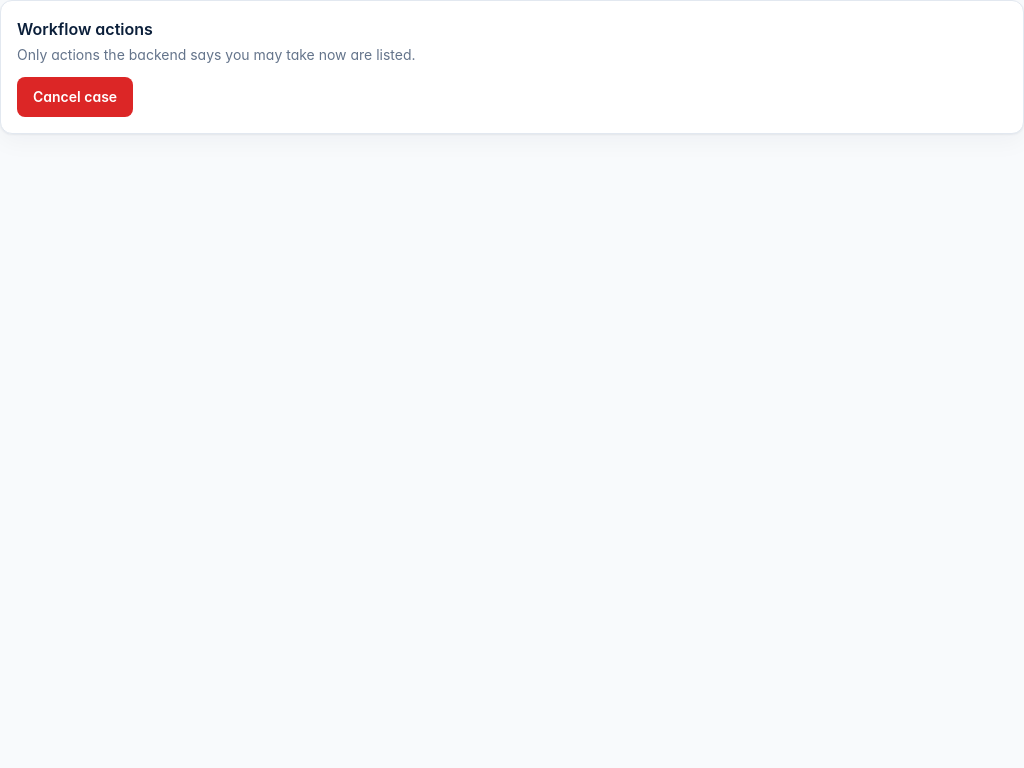
Test: acquisition ActionBar › requires a reason before cancelling and sends it to the backend
Later steps or results of the test are not shown.
Click the button "Cancel case". click: (75, 97)
box: [17,77,133,117]
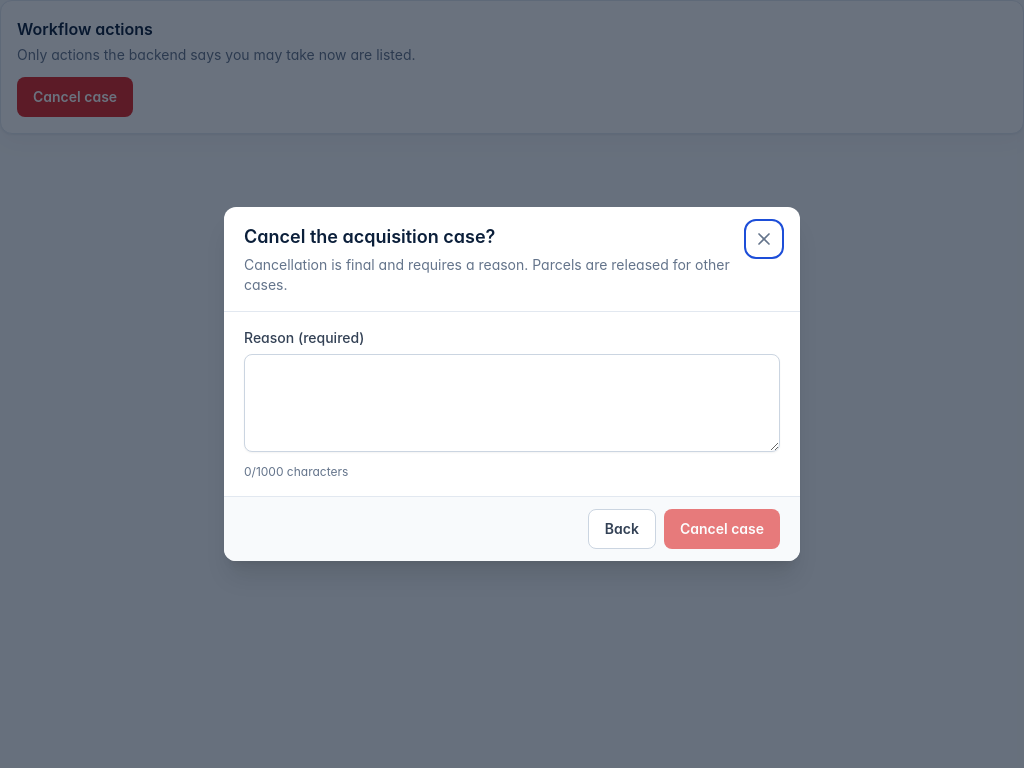
Result: the button "Cancel case" is disabled at [664,509,780,549]
